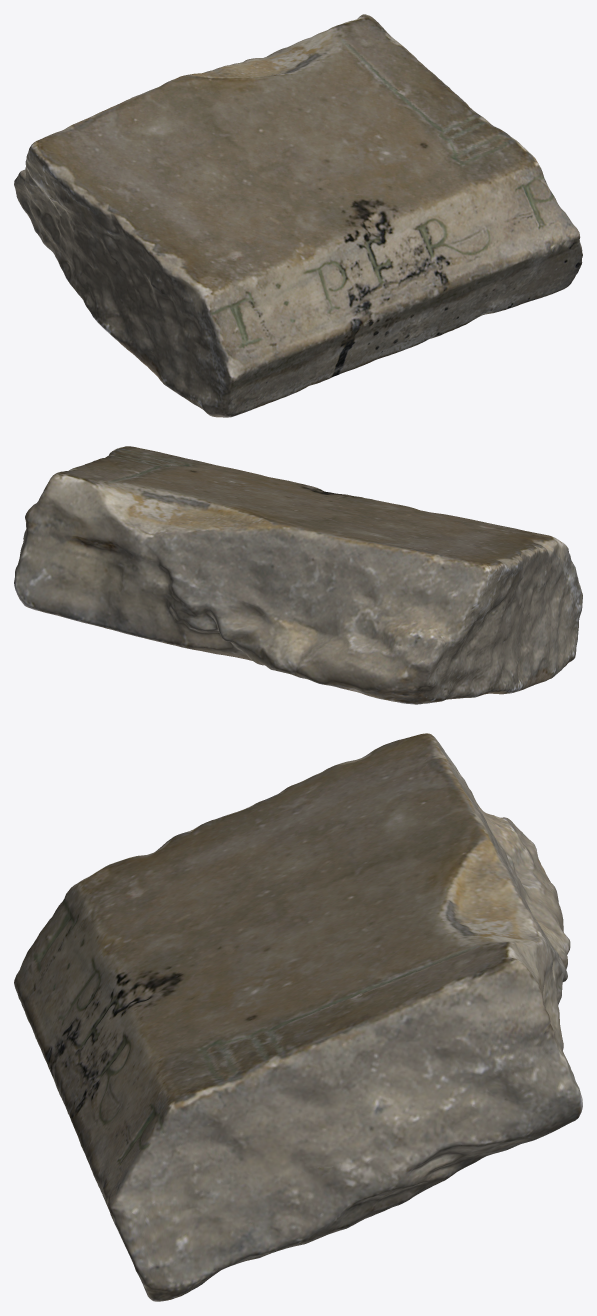
The model's file is Tombstone3.glb.
3 renders of one model, top to bottom at view 1: azimuth 30°, elevation 25°; view 2: azimuth 150°, elevation 25°; view 3: azimuth 270°, elevation 25°, orthographic. The views are drawn at different scales.
Visible parts, largest first — view 1: object; view 2: object; view 3: object.
Boxes of the visible parts, x1,y1,x2,y2 form: object: (14, 14, 582, 417); object: (14, 446, 582, 704); object: (14, 733, 582, 1301).
Size of the model in its own units: 3.39 by 1.53 by 2.57.
Materials: 1 (1 with a texture image).
